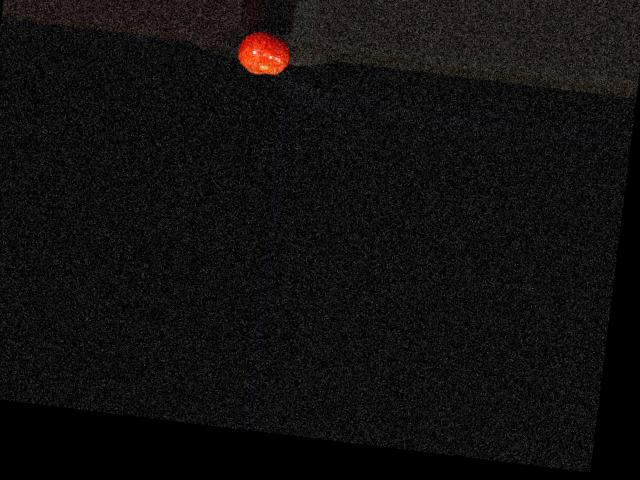tomato: (235, 28, 292, 78)
